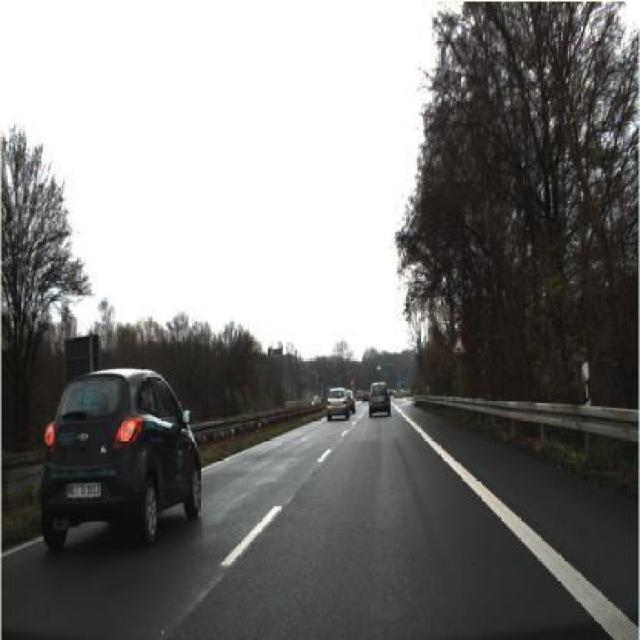traffic_sign: (450, 332, 468, 357)
